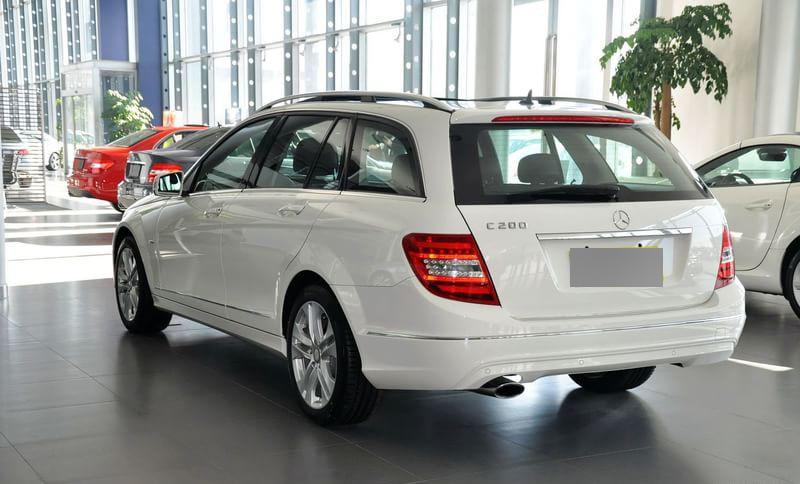Wagon: (110, 88, 749, 427)
